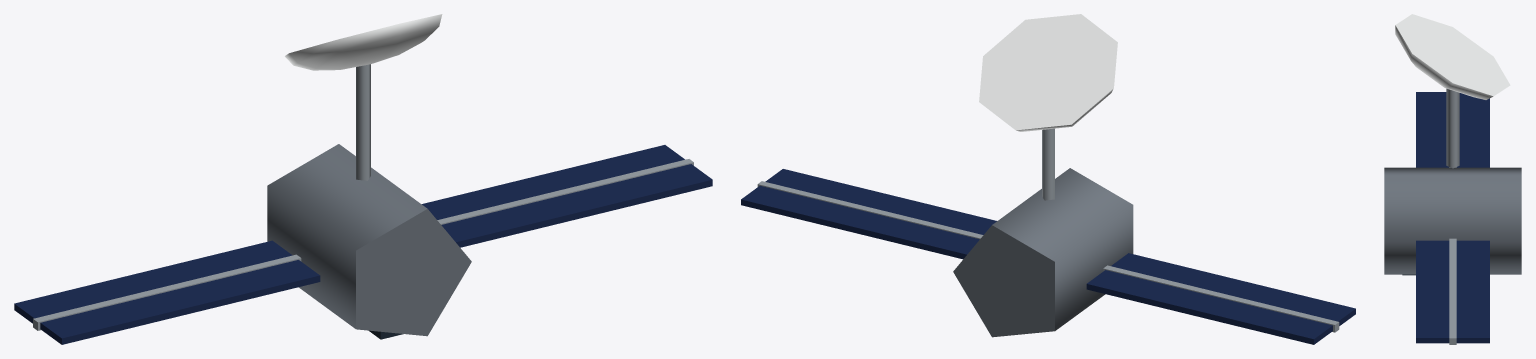
Rendered from space_ship_probe_mk3_lod1.glb.
3 views of the same model, side by side, from view 1: azimuth 30°, elevation 25°; view 2: azimuth 150°, elevation 25°; view 3: azimuth 270°, elevation 25° (orthographic). The views are drawn at different scales.
Parts seen in each view (by area): view 1: body, solar_0, solar_1, antenna_0; view 2: body, antenna_0, solar_0, solar_1; view 3: body, solar_1, antenna_0, solar_0.
Boxes of the visible parts, <box> form: body: <box>267,144,471,339</box>; solar_0: <box>14,240,320,344</box>; solar_1: <box>422,145,712,247</box>; antenna_0: <box>285,14,442,180</box>; body: <box>953,168,1133,337</box>; antenna_0: <box>979,14,1117,200</box>; solar_0: <box>1086,253,1355,344</box>; solar_1: <box>741,169,996,259</box>; body: <box>1384,167,1521,275</box>; solar_1: <box>1416,238,1489,344</box>; antenna_0: <box>1395,14,1510,168</box>; solar_0: <box>1416,92,1489,167</box>.
Bounding box in the file's own units: 6.35 × 2.92 × 1.49.
